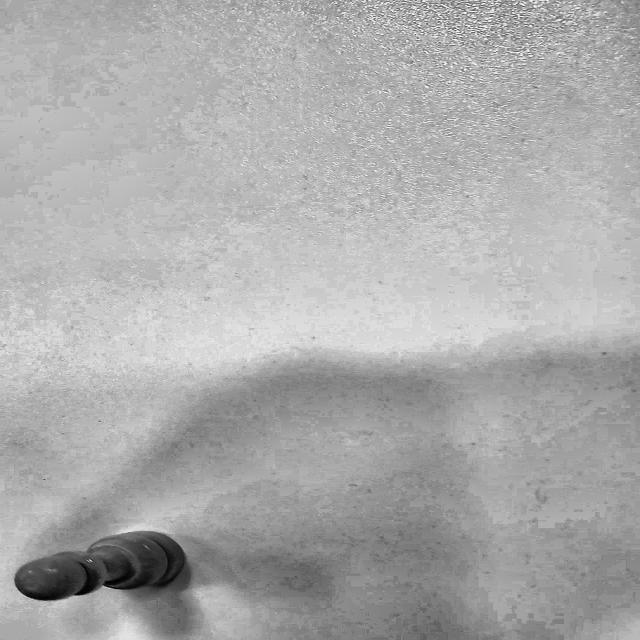white-pawn: (14, 531, 196, 640)
